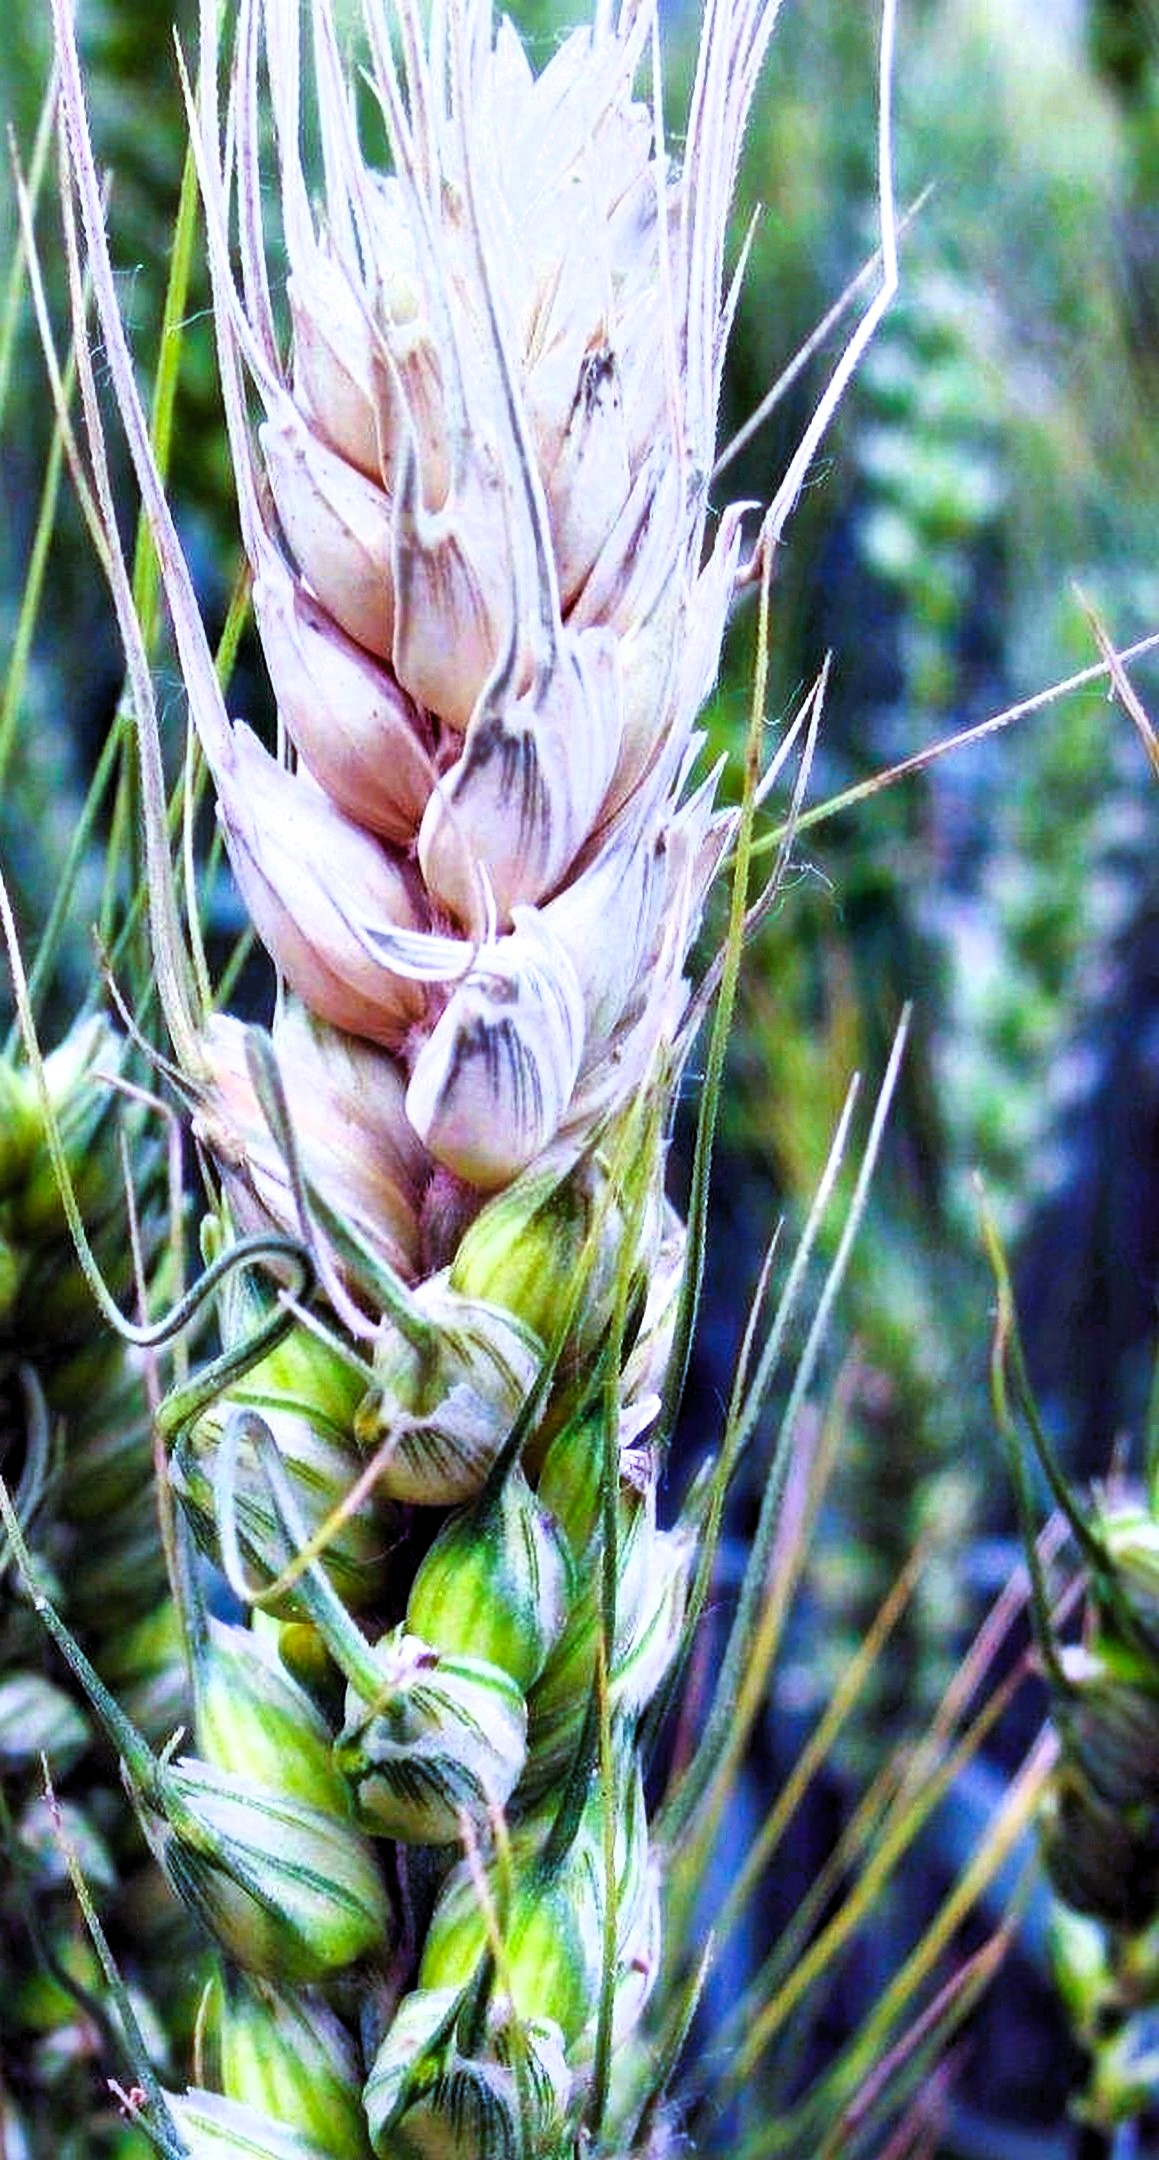Wheat scab: (59, 126, 845, 1826)
